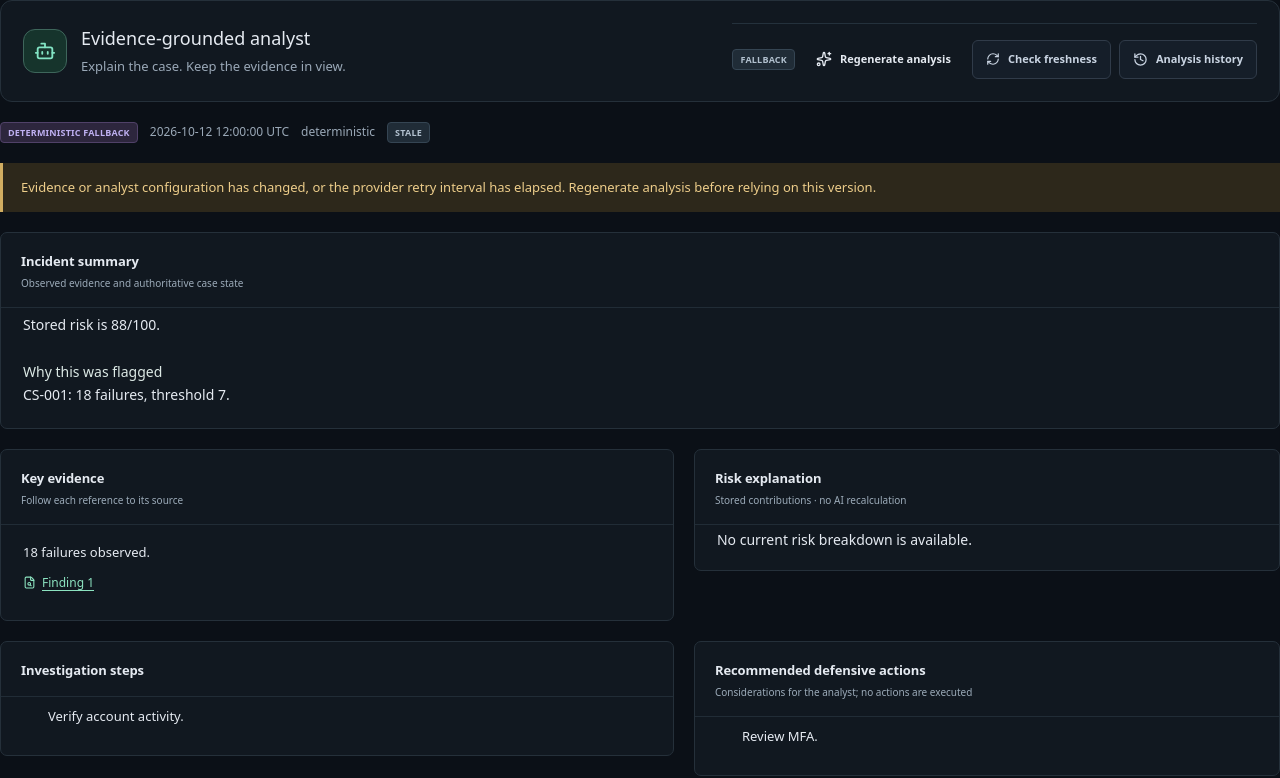
Scenario: shows stale state and explicitly regenerates while preserving history
Expected: the text "Evidence or analyst configuration has changed" is shown, [21,178,876,196]
What coordinates should you click on to do the following:
click the button "Regenerate analysis"
I would click on:
 (883, 59)
Its box is [803,41,964,78].
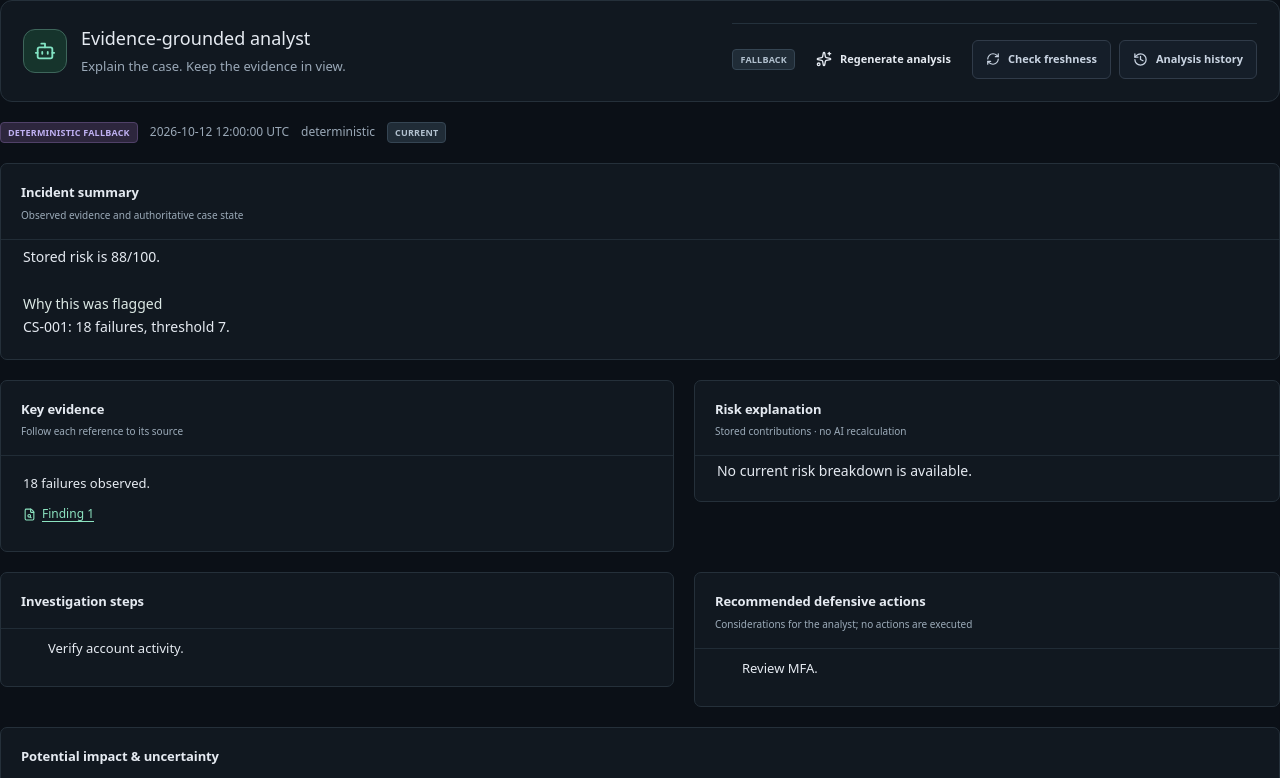
Expected: the text "Evidence or analyst configuration has changed" is gone
What coordinates should you click on to do the following:
click the button "Analysis history"
I would click on:
 (1188, 59)
Its box is [1119,40,1257,78].
(page scrolled)
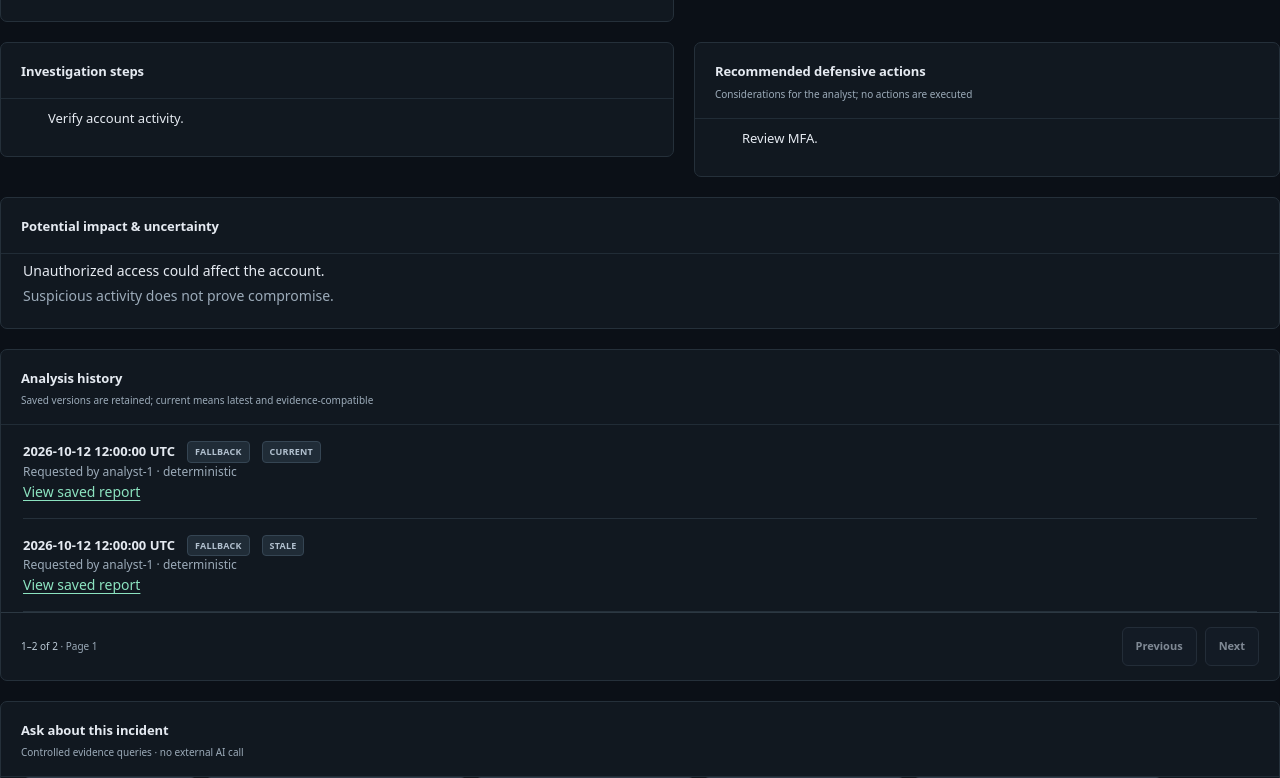
Expected: the text "Saved versions are retained; current means latest and evidence-compatible" is shown, [21,393,373,408]
Expected: the number of buttons "View saved report" is 2, [23,481,140,502]; [23,574,140,595]
